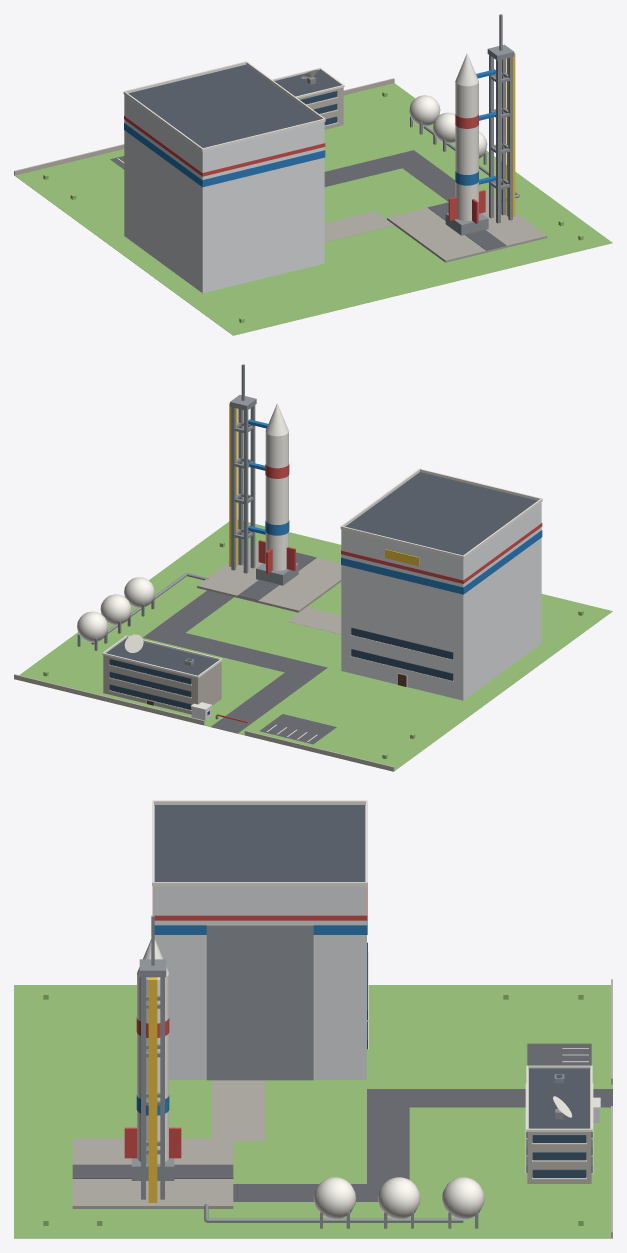
Rendered from launchsite.glb.
3 renders of one model, top to bottom at view 1: azimuth 30°, elevation 25°; view 2: azimuth 150°, elevation 25°; view 3: azimuth 270°, elevation 25°, orthographic. The views are drawn at different scales.
Visible parts, largest first — view 1: ground, assembly_hall, roof (×2), launch_pad, tower_leg (×4), road (×2), rocket_body, accent_stripe (×2), fuel_tank (×2), crawlerway, parapet (×2), hoist (+5 smaller); view 2: ground, assembly_hall, roof (×2), road (×3), launch_pad, tower_leg (×4), window_band (×5), control_building, rocket_body, accent_stripe (×2), fuel_tank (×3), boundary_wall (×2) (+5 smaller); view 3: ground, assembly_hall, roof (×2), garage_door, road (×3), launch_pad, fuel_tank (×3), crawlerway, accent_stripe (×2), hoist, tower_leg (×2), rocket_body (+6 smaller).
Part boxes in pixels (<box>): ground: <box>15,83,612,335</box>; assembly_hall: <box>124,95,324,293</box>; roof (×2): <box>128,64,340,147</box>; launch_pad: <box>387,193,547,262</box>; tower_leg (×4): <box>489,55,512,223</box>; road (×2): <box>324,150,455,201</box>; rocket_body: <box>455,82,478,220</box>; accent_stripe (×2): <box>124,115,325,187</box>; fuel_tank (×2): <box>409,95,455,143</box>; crawlerway: <box>324,211,394,242</box>; parapet (×2): <box>124,61,325,151</box>; hoist: <box>506,53,515,216</box>; ground: <box>14,520,612,771</box>; assembly_hall: <box>341,502,541,700</box>; roof (×2): <box>106,472,537,675</box>; road (×3): <box>143,590,327,733</box>; launch_pad: <box>197,543,341,612</box>; tower_leg (×4): <box>231,405,255,573</box>; window_band (×5): <box>109,627,453,709</box>; control_building: <box>103,655,221,714</box>; rocket_body: <box>265,432,288,570</box>; accent_stripe (×2): <box>341,523,542,594</box>; fuel_tank (×3): <box>77,577,154,642</box>; boundary_wall (×2): <box>14,674,394,771</box>; ground: <box>14,985,612,1238</box>; assembly_hall: <box>153,805,366,1079</box>; roof (×2): <box>154,805,589,1128</box>; garage_door: <box>206,925,313,1080</box>; road (×3): <box>233,1089,612,1201</box>; launch_pad: <box>72,1138,233,1208</box>; fuel_tank (×3): <box>313,1177,484,1219</box>; crawlerway: <box>212,1080,265,1140</box>; accent_stripe (×2): <box>152,886,367,934</box>; hoist: <box>148,977,157,1202</box>; tower_leg (×2): <box>141,977,164,1199</box>; rocket_body: <box>137,974,168,1163</box>.
Size of the model in its own units: 112 by 58.05 by 112.
